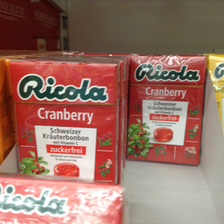candy: (9, 56, 119, 197), (132, 54, 201, 164)
